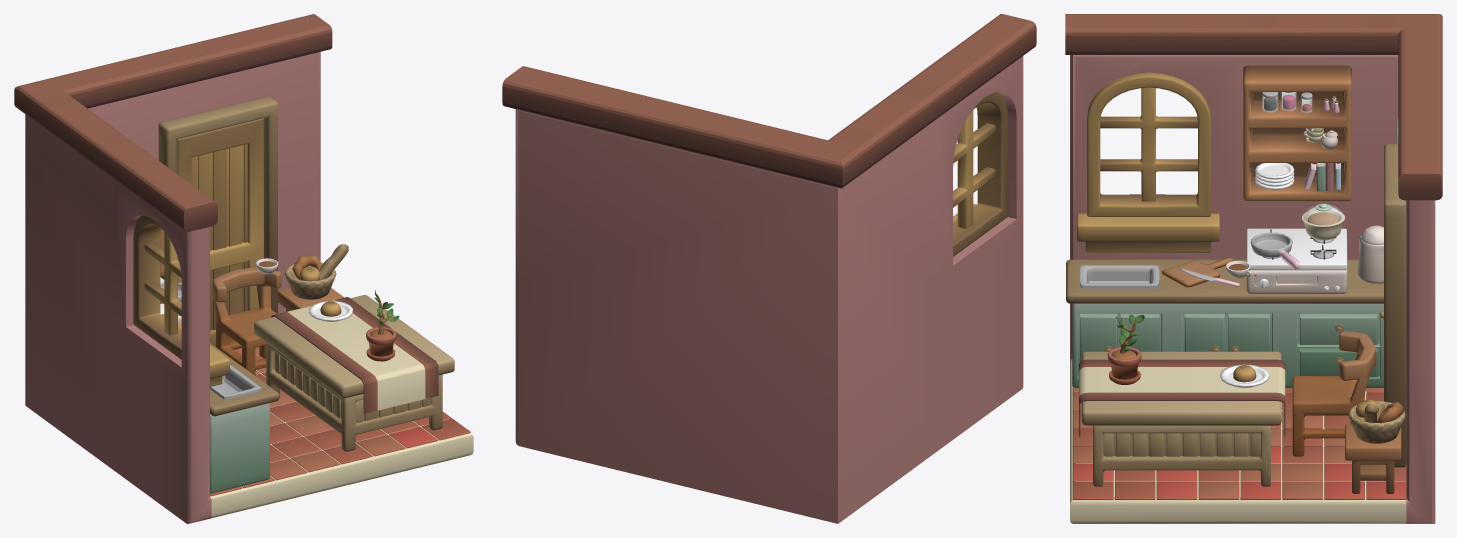
Rendered from stylized kitchen.glb.
3 views of the same model, side by side, from view 1: azimuth 30°, elevation 25°; view 2: azimuth 150°, elevation 25°; view 3: azimuth 270°, elevation 25° (orthographic). The views are drawn at different scales.
Visible parts, largest first — view 1: topBeam, doorWood, table, tiles, tableCloth, counter, doorFrame, windowFrame, chair, basket, potPlatte, littleTable (+2 smaller); view 2: topBeam, windowFrame; view 3: topBeam, counter, table, tiles, shelf, windowFrame, tableCloth, doorFrame, stoveBace, chair, windowBace, littleTable (+10 smaller).
Part boxes in pixels (x1,y1,x2,y2): topBeam: [14, 14, 473, 523]; doorWood: [176, 118, 263, 346]; table: [254, 295, 454, 451]; tiles: [210, 347, 470, 496]; tableCloth: [271, 297, 438, 413]; counter: [210, 343, 279, 493]; doorFrame: [158, 96, 277, 313]; windowFrame: [133, 215, 181, 359]; chair: [213, 267, 281, 375]; basket: [285, 262, 336, 299]; potPlatte: [366, 327, 396, 361]; littleTable: [278, 288, 343, 311]; topBeam: [502, 14, 1036, 523]; windowFrame: [953, 92, 1008, 256]; topBeam: [1065, 14, 1442, 523]; counter: [1066, 259, 1383, 387]; table: [1081, 351, 1281, 486]; tiles: [1073, 387, 1406, 499]; shelf: [1243, 65, 1351, 201]; windowFrame: [1087, 72, 1210, 216]; tableCloth: [1079, 359, 1285, 436]; doorFrame: [1384, 144, 1406, 467]; stoveBace: [1246, 228, 1347, 294]; chair: [1292, 330, 1376, 456]; windowBace: [1077, 213, 1219, 252]; littleTable: [1345, 424, 1401, 493].
Size of the model in its own units: 6.73 by 6.81 by 6.56.
1 material, 1 textured.
